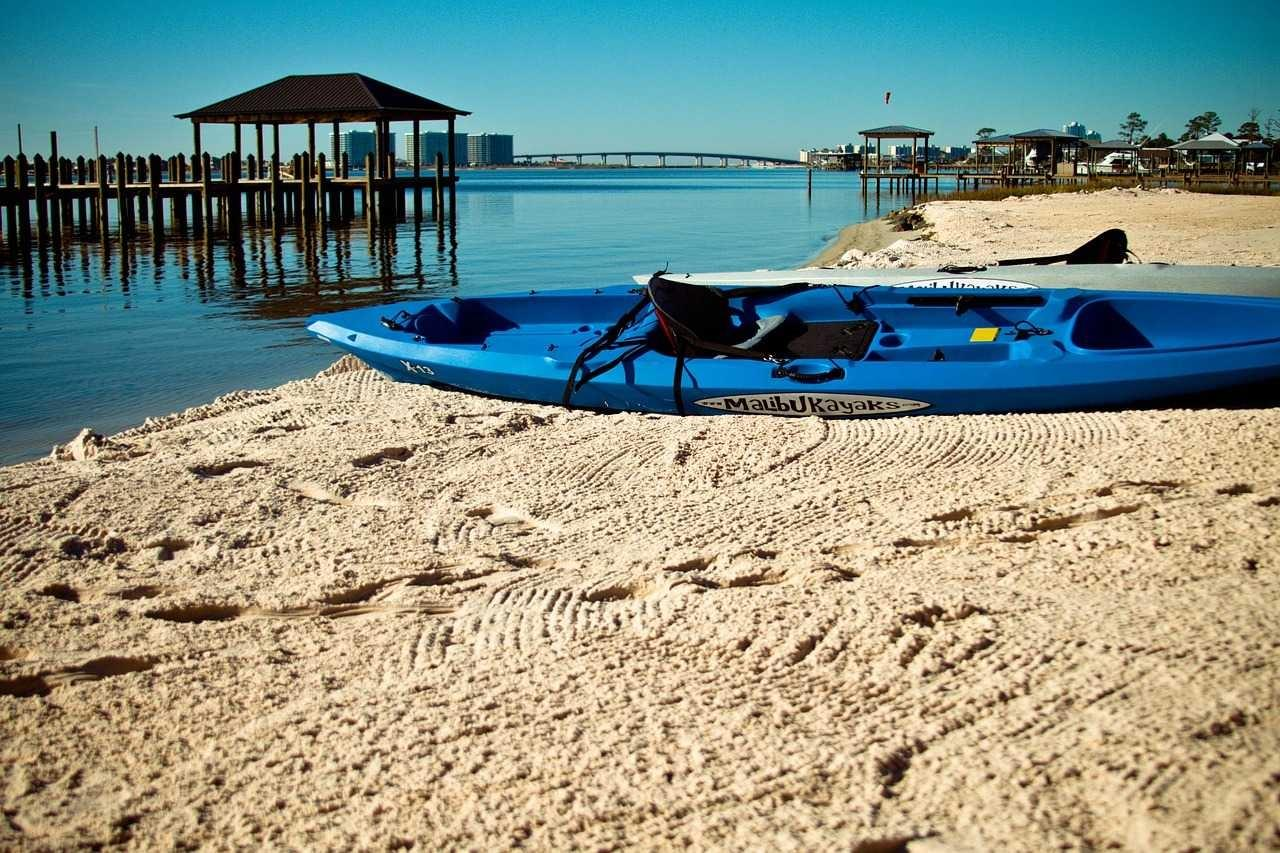kayak: (307, 250, 1274, 423)
